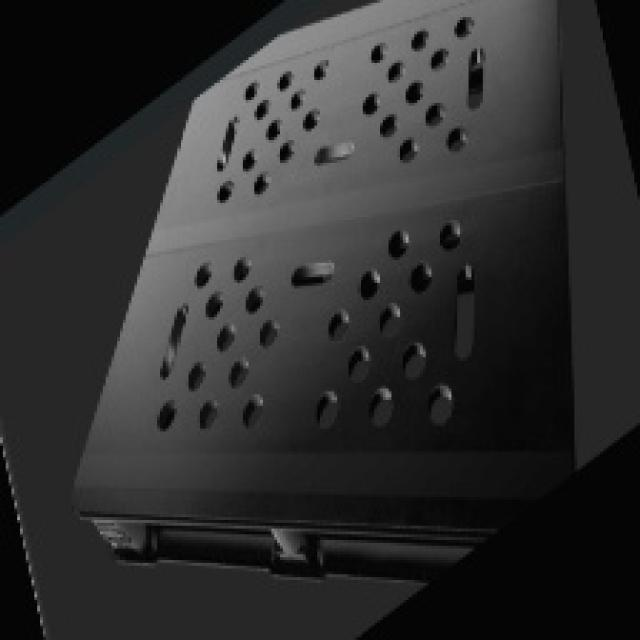igps: (60, 0, 590, 593)
